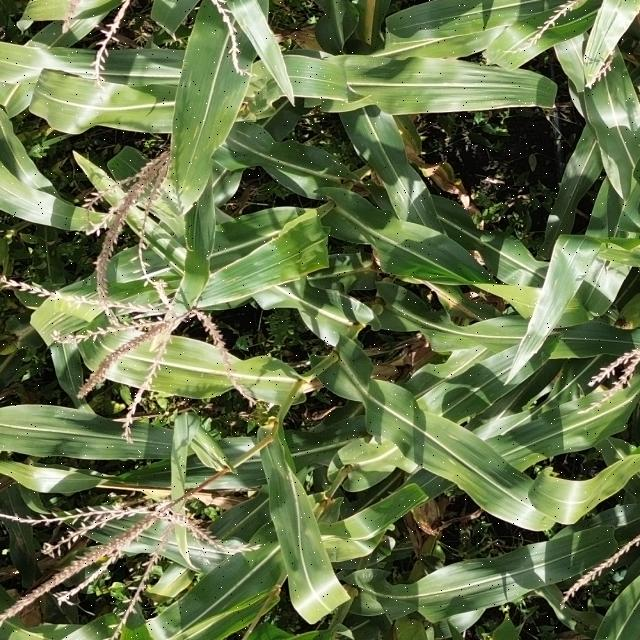gray-leaf-spot: (172, 64, 250, 179), (434, 426, 525, 508)
northern-leaf-blight: (145, 247, 289, 318)
southern-leaf-blight: (364, 8, 512, 63)
